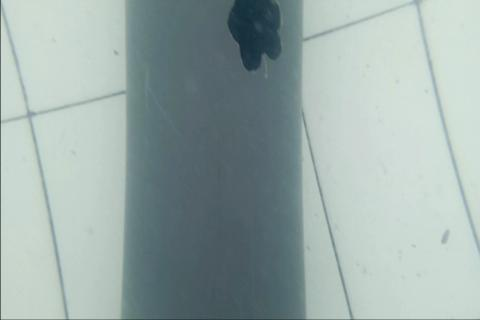kebocoran: (226, 1, 284, 75)
